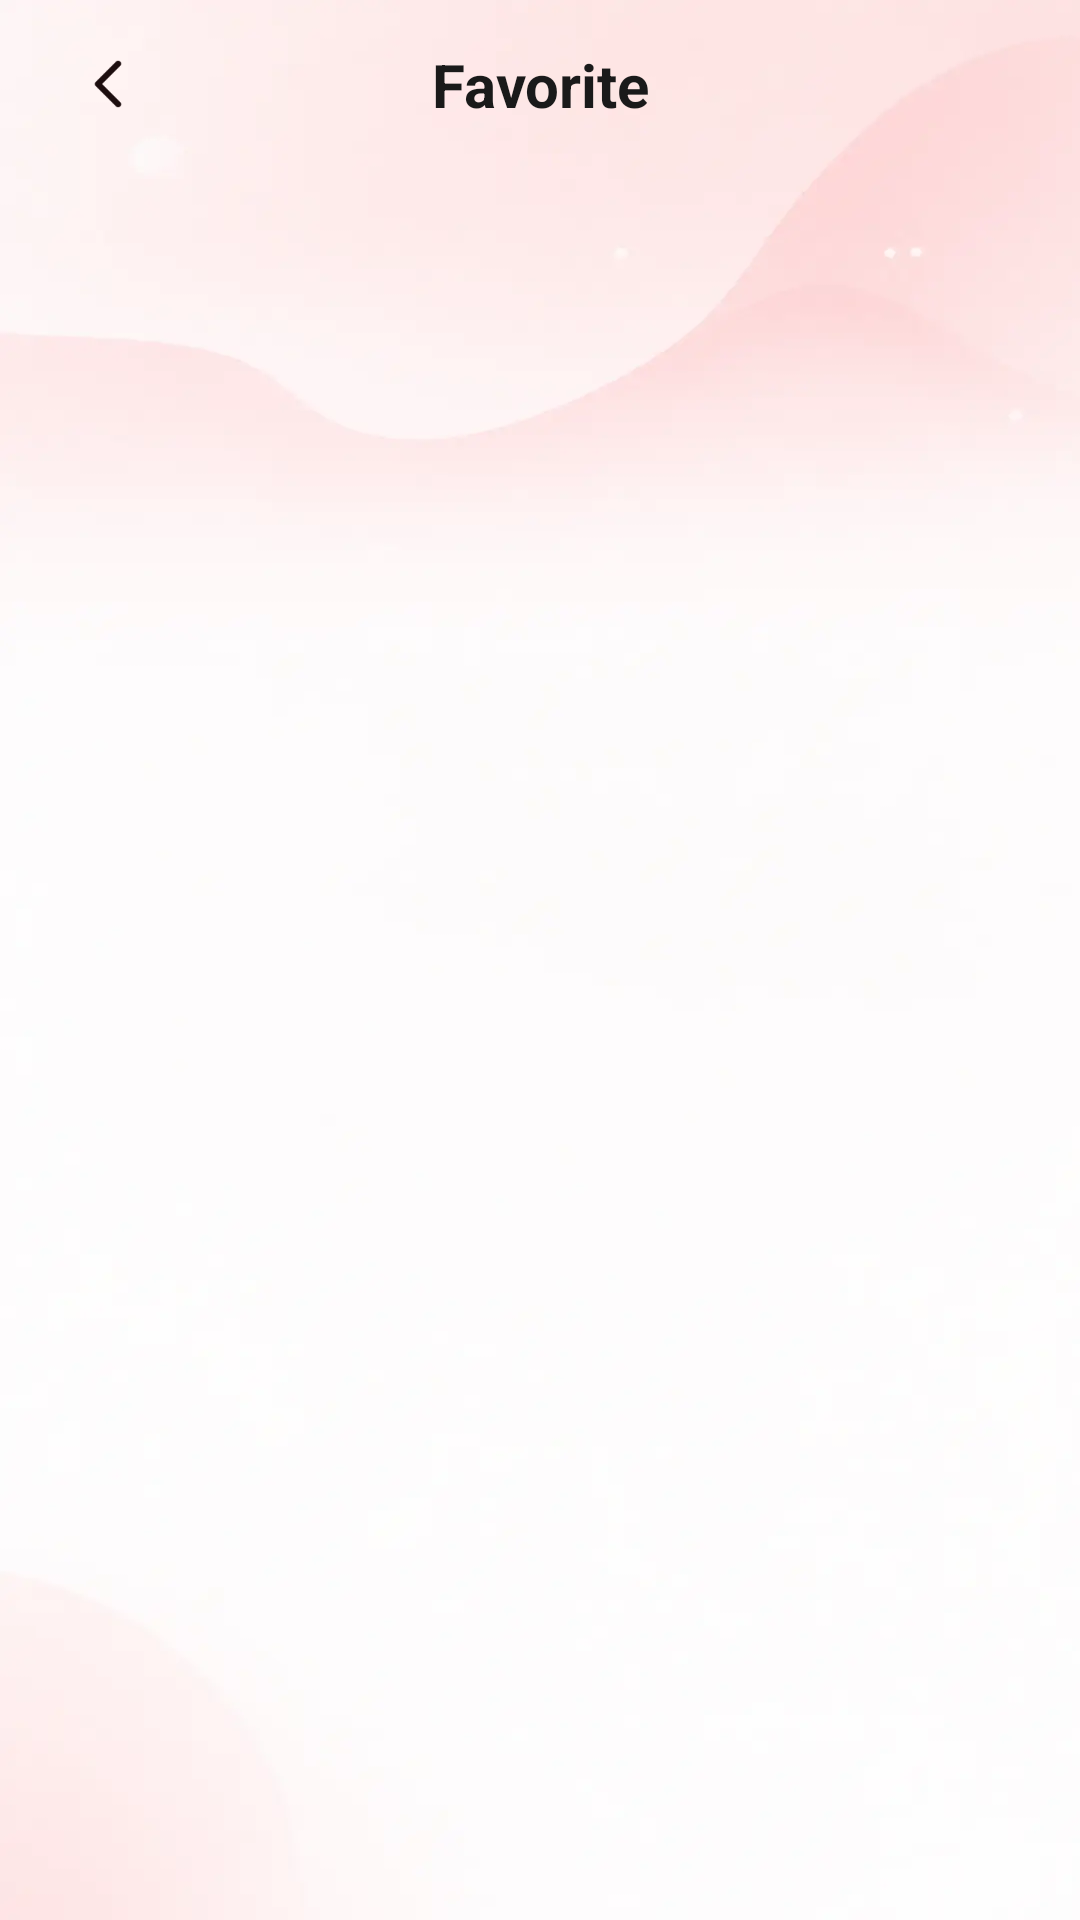

Icons on this 1080x1920 Android screen, each with its box as (x1, y1, x2, y2):
Back: (94, 60, 122, 108)
